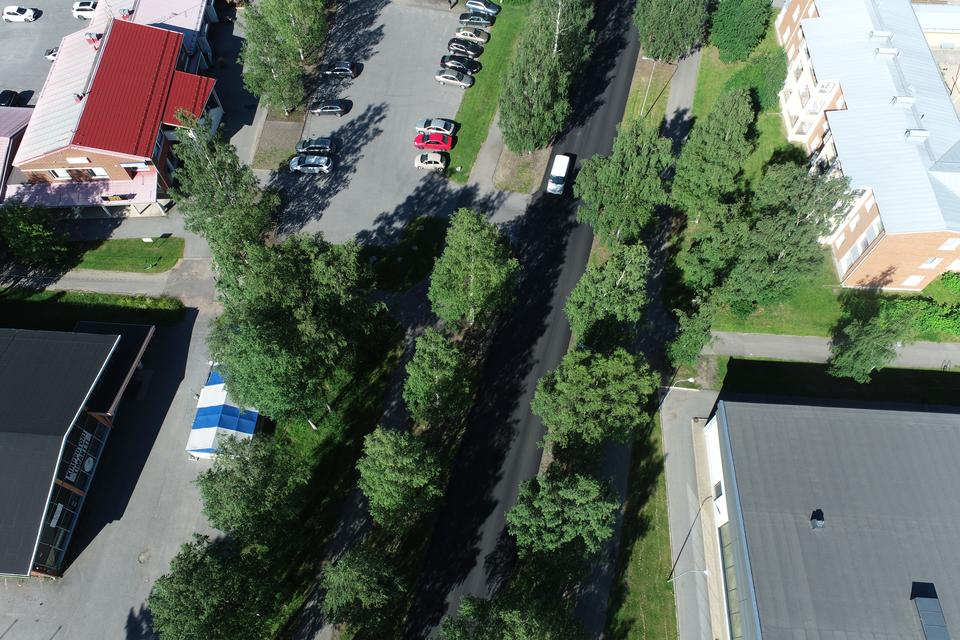intersection: (372, 132, 637, 316)
